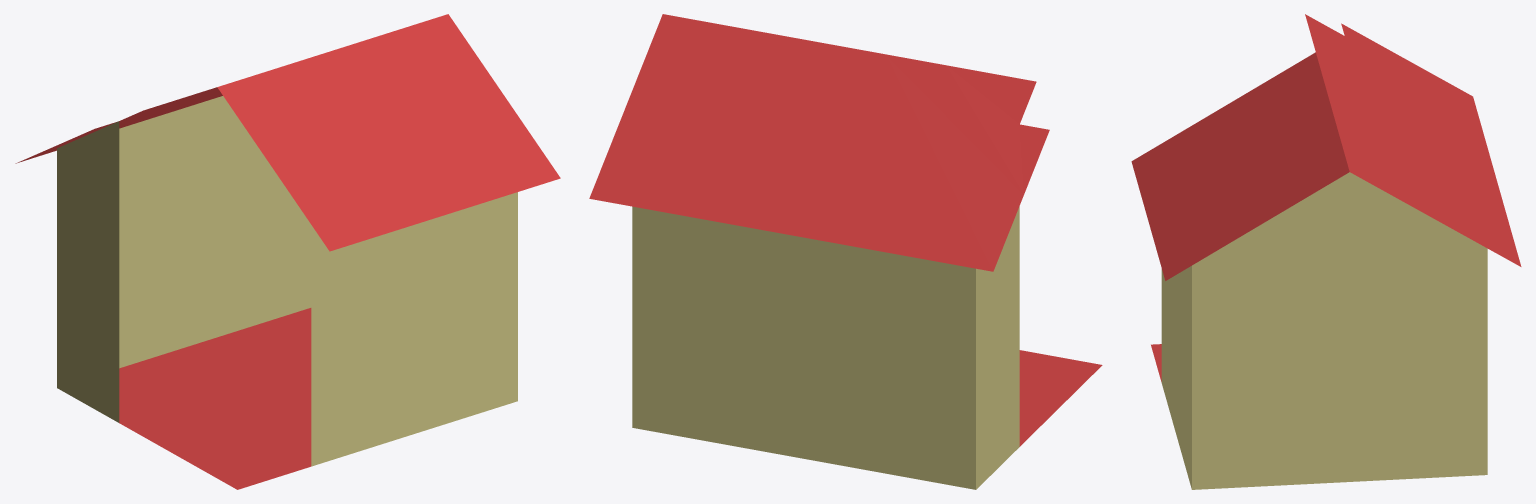
3 views of the same model, side by side, from view 1: azimuth 30°, elevation 25°; view 2: azimuth 150°, elevation 25°; view 3: azimuth 270°, elevation 25° (orthographic). The views are drawn at different scales.
Bounding box in the file's own units: 11.04 × 9.64 × 8.8.
